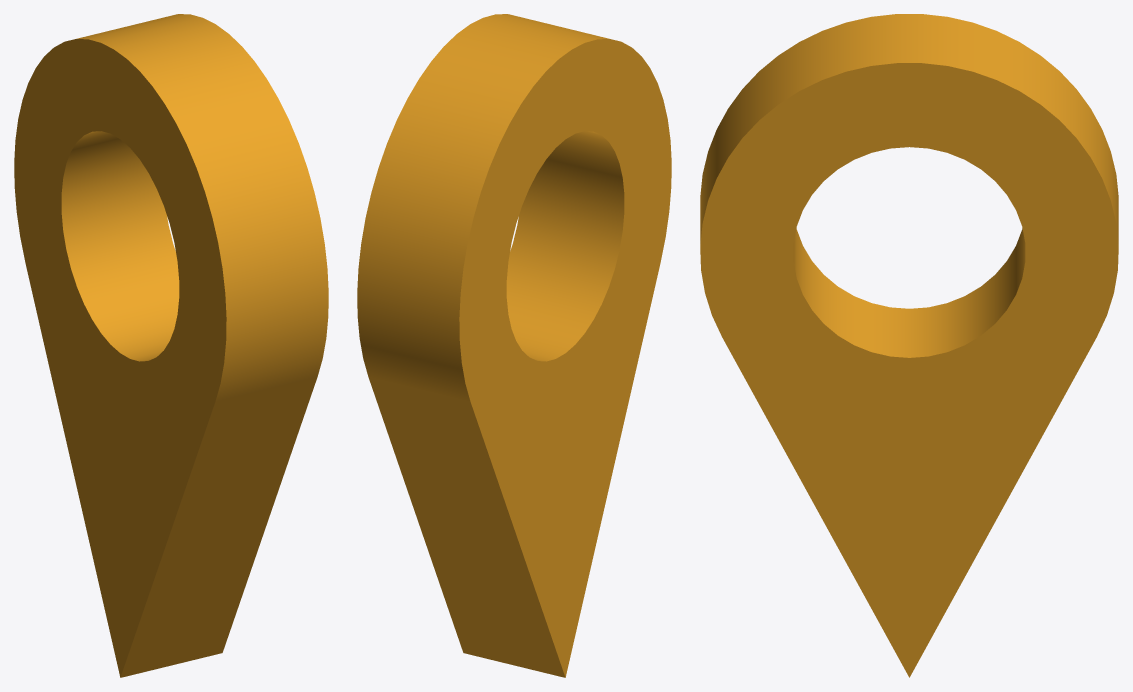
The model's file is wp-orange.dae.
3 renders of one model, left to right at view 1: azimuth 30°, elevation 25°; view 2: azimuth 150°, elevation 25°; view 3: azimuth 270°, elevation 25°, orthographic.
Parts seen in each view (by area): view 1: location marker; view 2: location marker; view 3: location marker.
Boxes of the visible parts, bbox=[...] form: location marker: bbox=[14, 14, 328, 677]; location marker: bbox=[357, 14, 671, 677]; location marker: bbox=[700, 14, 1118, 677].
Size of the model in its own units: 5 by 17.99 by 29.16.
